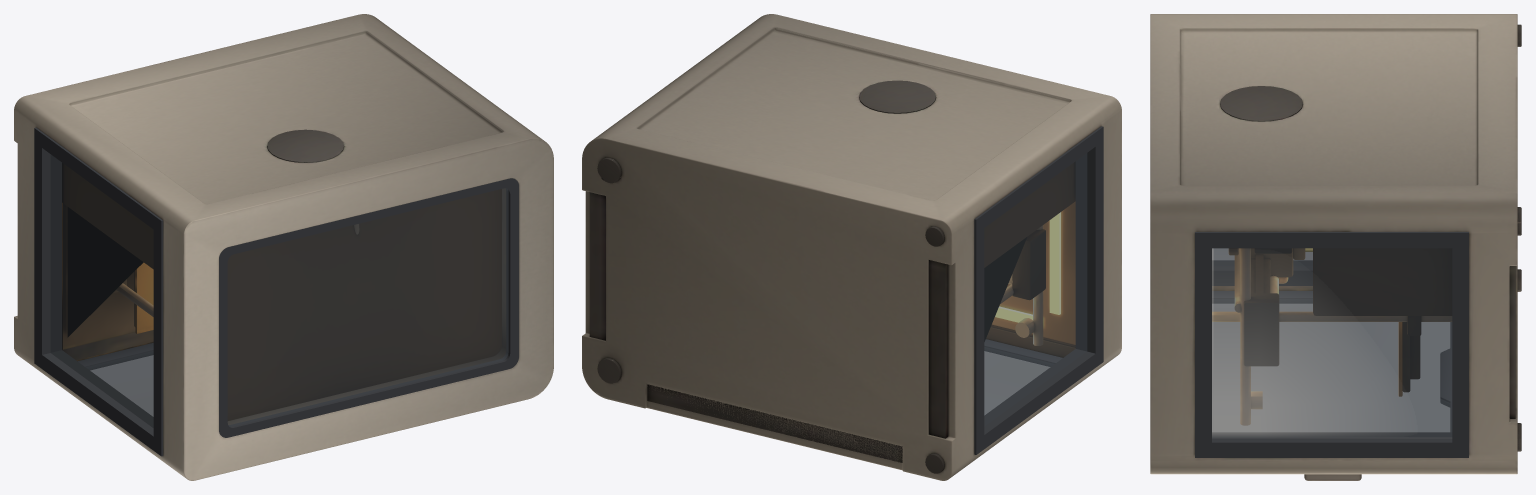
The model's file is deltrol_p2s_source_geometry_pivot_v5_rev1.glb.
3 views of the same model, side by side, from view 1: azimuth 30°, elevation 25°; view 2: azimuth 150°, elevation 25°; view 3: azimuth 270°, elevation 25° (orthographic). The views are drawn at different scales.
Visible parts, largest first — view 1: unibody_shell, top_roof_glass, interior_ceiling_liner, left_glass_window, left_window_gasket, top_rim_outer, interior_left_back_baffle, interior_floor_tray, front_glass_door, rear_exhaust_shroud, chassis_recessed_plinth, build_plate (+1 smaller); view 2: unibody_shell, left_glass_window, left_window_gasket, chassis_recessed_plinth, interior_left_back_baffle, interior_ceiling_liner, front_glass_door, rear_exhaust_shroud, x_gantry_crossbeam, led_bar_left, x_guide_front, door_top_rail; view 3: unibody_shell, right_glass_window, front_glass_door, right_window_gasket, right_glass_sheen, interior_rear_electronics_box, x_guide_front, x_gantry_crossbeam, rear_exhaust_shroud, bed_heater_block, left_window_gasket, chassis_recessed_plinth (+5 smaller).
Part boxes in pixels (left/top/right/bottom): unibody_shell: left=14, top=14, right=553, bottom=480; top_roof_glass: left=227, top=188, right=508, bottom=426; interior_ceiling_liner: left=227, top=189, right=501, bottom=420; left_glass_window: left=50, top=155, right=153, bottom=427; left_window_gasket: left=34, top=127, right=163, bottom=456; top_rim_outer: left=219, top=178, right=518, bottom=437; interior_left_back_baffle: left=62, top=163, right=153, bottom=268; interior_floor_tray: left=62, top=203, right=135, bottom=349; front_glass_door: left=86, top=351, right=153, bottom=415; rear_exhaust_shroud: left=267, top=129, right=344, bottom=162; chassis_recessed_plinth: left=62, top=330, right=153, bottom=360; build_plate: left=135, top=262, right=153, bottom=333; unibody_shell: left=582, top=14, right=1121, bottom=480; left_glass_window: left=984, top=153, right=1087, bottom=426; left_window_gasket: left=974, top=126, right=1103, bottom=454; chassis_recessed_plinth: left=589, top=192, right=948, bottom=462; interior_left_back_baffle: left=984, top=161, right=1075, bottom=267; interior_ceiling_liner: left=992, top=201, right=1075, bottom=344; front_glass_door: left=984, top=347, right=1053, bottom=414; rear_exhaust_shroud: left=859, top=80, right=936, bottom=113; x_gantry_crossbeam: left=1012, top=229, right=1045, bottom=299; led_bar_left: left=1049, top=212, right=1060, bottom=314; x_guide_front: left=1000, top=225, right=1043, bottom=345; door_top_rail: left=984, top=339, right=1062, bottom=366; unibody_shell: left=1150, top=14, right=1517, bottom=474; right_glass_window: left=1212, top=248, right=1452, bottom=438; front_glass_door: left=1212, top=299, right=1449, bottom=431; right_window_gasket: left=1195, top=232, right=1468, bottom=457; right_glass_sheen: left=1212, top=248, right=1361, bottom=436; interior_rear_electronics_box: left=1313, top=248, right=1452, bottom=315; x_guide_front: left=1212, top=248, right=1452, bottom=425; x_gantry_crossbeam: left=1244, top=248, right=1292, bottom=365; rear_exhaust_shroud: left=1220, top=86, right=1302, bottom=121; bed_heater_block: left=1402, top=316, right=1421, bottom=392; left_window_gasket: left=1212, top=260, right=1312, bottom=285; chassis_recessed_plinth: left=1509, top=266, right=1515, bottom=418.
Size of the model in its own units: 0.469 by 0.3268 by 0.374.
Materials: 10 (4 with a texture image).
